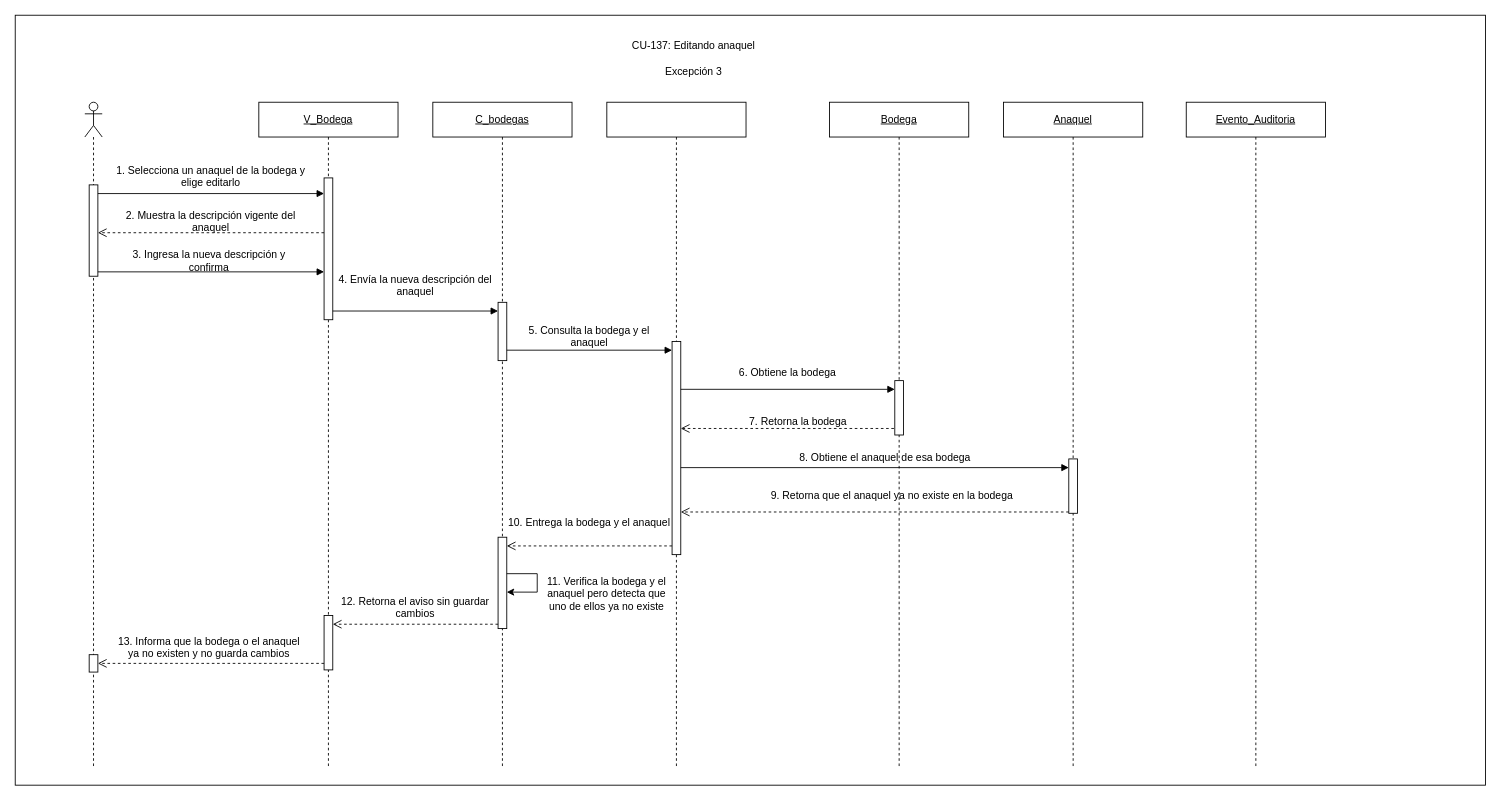
Some shapes in this 1501 by 800 pixel diagram are drawn without their labels. Each missing label, with the box of its shape:
C_Postgre: (606, 101, 746, 768)
Gerencia/JOP: (84, 101, 102, 768)
